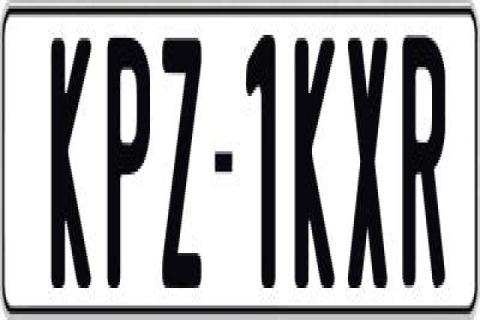0: (243, 35, 274, 291)
K: (51, 29, 98, 294), (296, 35, 338, 291)
P: (104, 35, 154, 285)
R: (402, 32, 448, 302)
X: (348, 32, 391, 296)
Z: (162, 32, 202, 296)
